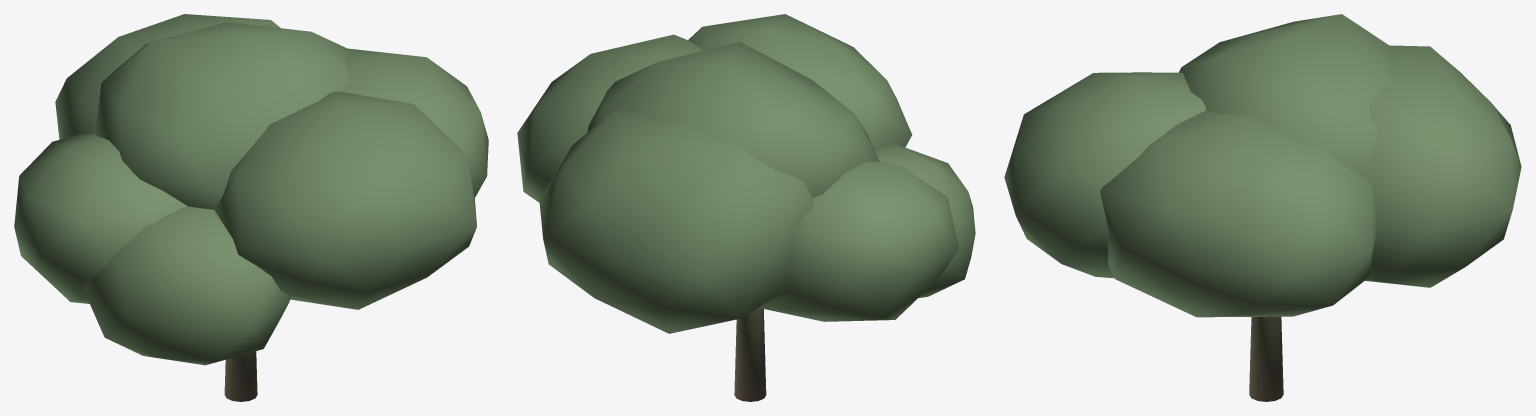
The model's file is shade_a.glb.
3 views of the same model, side by side, from view 1: azimuth 30°, elevation 25°; view 2: azimuth 150°, elevation 25°; view 3: azimuth 270°, elevation 25° (orthographic). The views are drawn at different scales.
Visible parts, largest first — view 1: shade_a; view 2: shade_a; view 3: shade_a.
Part boxes in pixels (x1,y1,x2,y2): shade_a: (14, 14, 488, 401); shade_a: (517, 14, 975, 401); shade_a: (1004, 14, 1521, 401).
Size of the model in its own units: 3.96 by 3.03 by 3.9.
